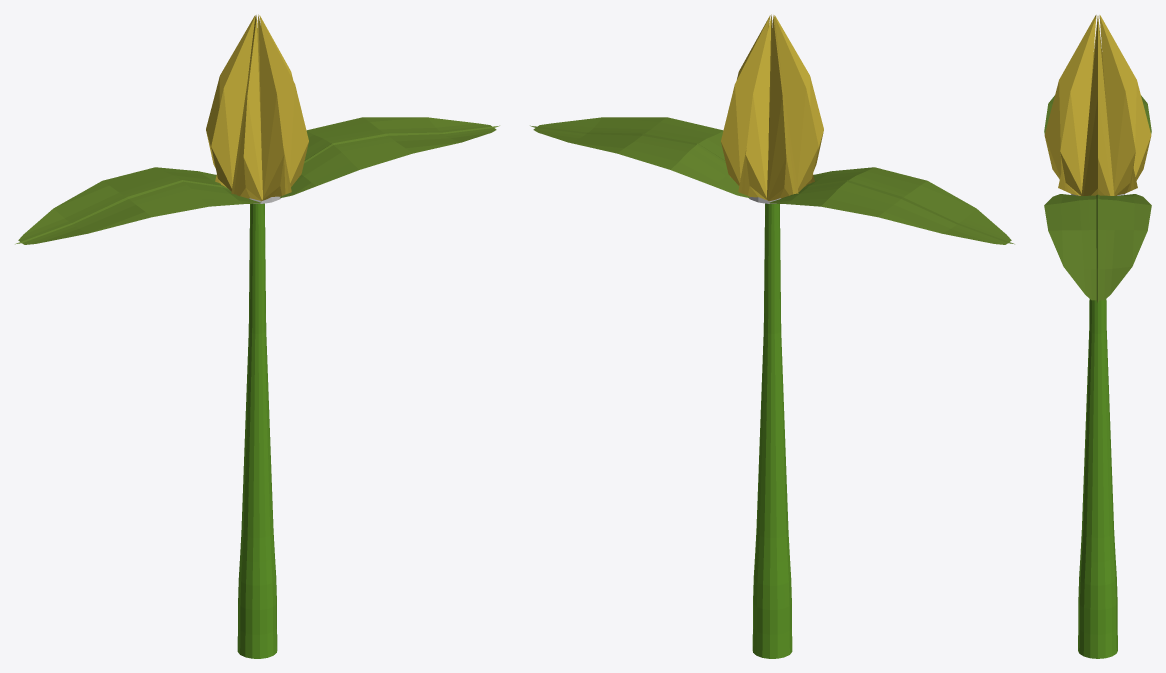
Rendered from sprout3.fbx.
3 renders of one model, left to right at view 1: azimuth 30°, elevation 25°; view 2: azimuth 150°, elevation 25°; view 3: azimuth 270°, elevation 25°, orthographic.
Visible parts, largest first — view 1: leaf, Circle.001, stem; view 2: leaf, Circle.001, stem; view 3: Circle.001, stem, leaf.
Part boxes in pixels (x1=…): leaf: x1=15, y1=117, x2=499, y2=244; Circle.001: x1=206, y1=14, x2=308, y2=201; stem: x1=237, y1=203, x2=277, y2=658; leaf: x1=530, y1=117, x2=1014, y2=244; Circle.001: x1=721, y1=14, x2=823, y2=201; stem: x1=752, y1=203, x2=792, y2=658; Circle.001: x1=1044, y1=15, x2=1151, y2=195; stem: x1=1078, y1=299, x2=1117, y2=658; leaf: x1=1044, y1=95, x2=1151, y2=302.
Size of the model in its own units: 195 by 243 by 37.37.
